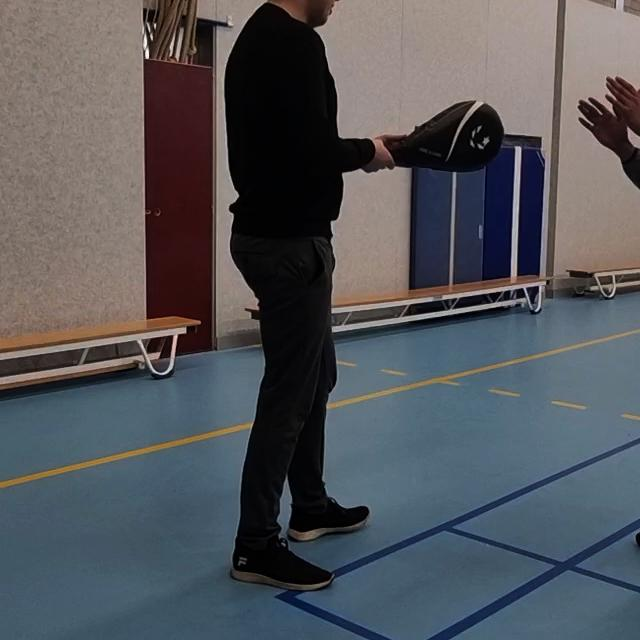paddle: (400, 100, 506, 172)
